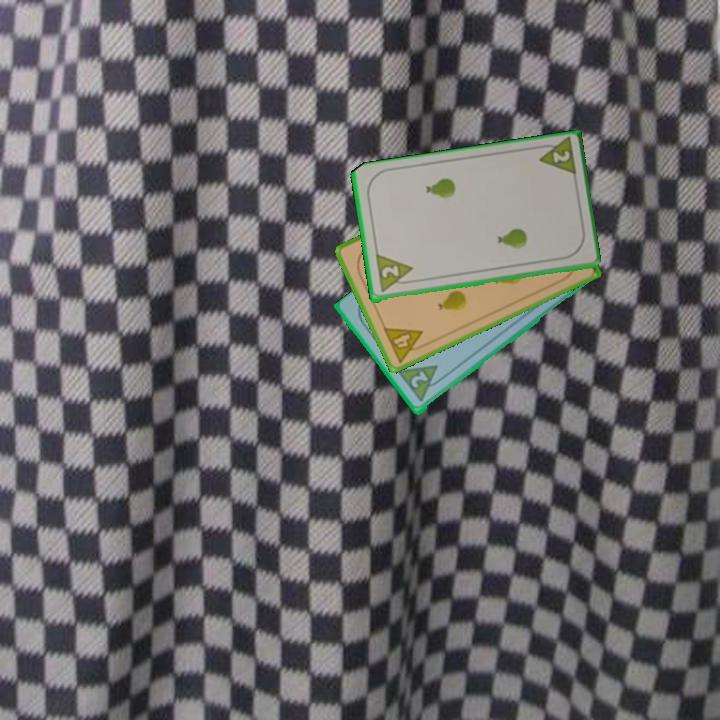2p: (395, 361, 448, 405), (532, 136, 579, 180), (372, 252, 417, 296)
4p: (380, 324, 431, 366)
